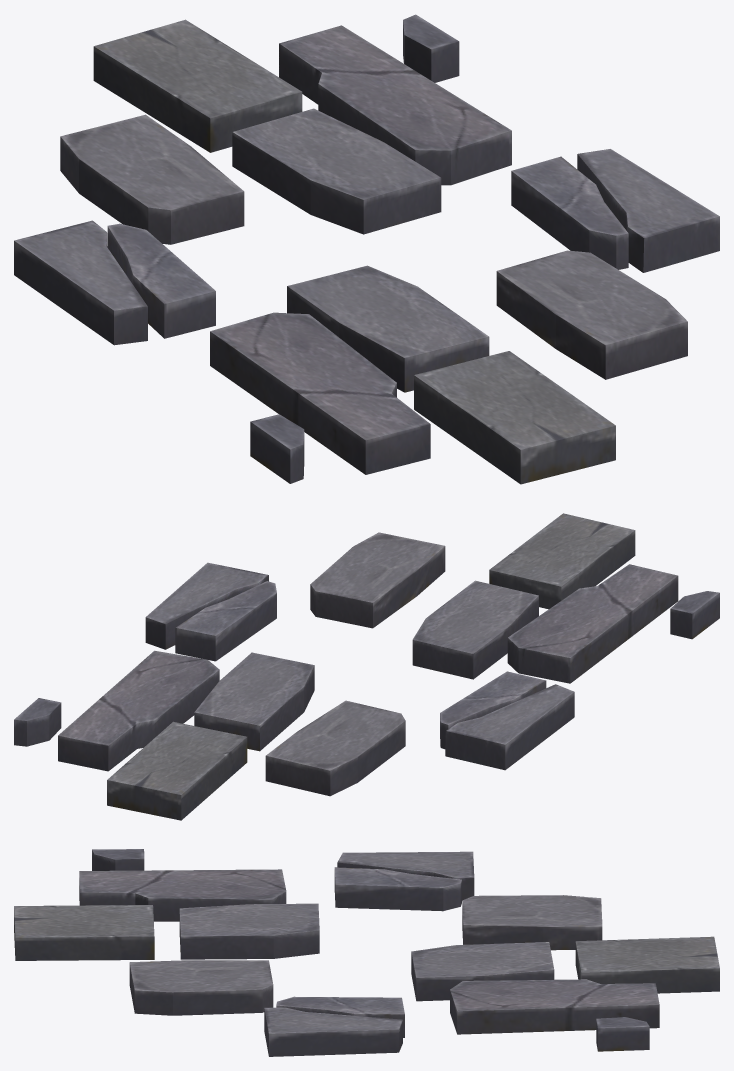
The model's file is forget_level02_02.FBX.
3 views of the same model, one above another, from view 1: azimuth 30°, elevation 25°; view 2: azimuth 150°, elevation 25°; view 3: azimuth 270°, elevation 25° (orthographic). The views are drawn at different scales.
Parts seen in each view (by area): view 1: forget_level02_02; view 2: forget_level02_02; view 3: forget_level02_02.
Boxes of the visible parts, x1,y1,x2,y2 form: forget_level02_02: (14,14,719,484); forget_level02_02: (14,513,719,820); forget_level02_02: (14,849,719,1056).
Bounding box in the file's own units: 260 × 15.3 × 421.
